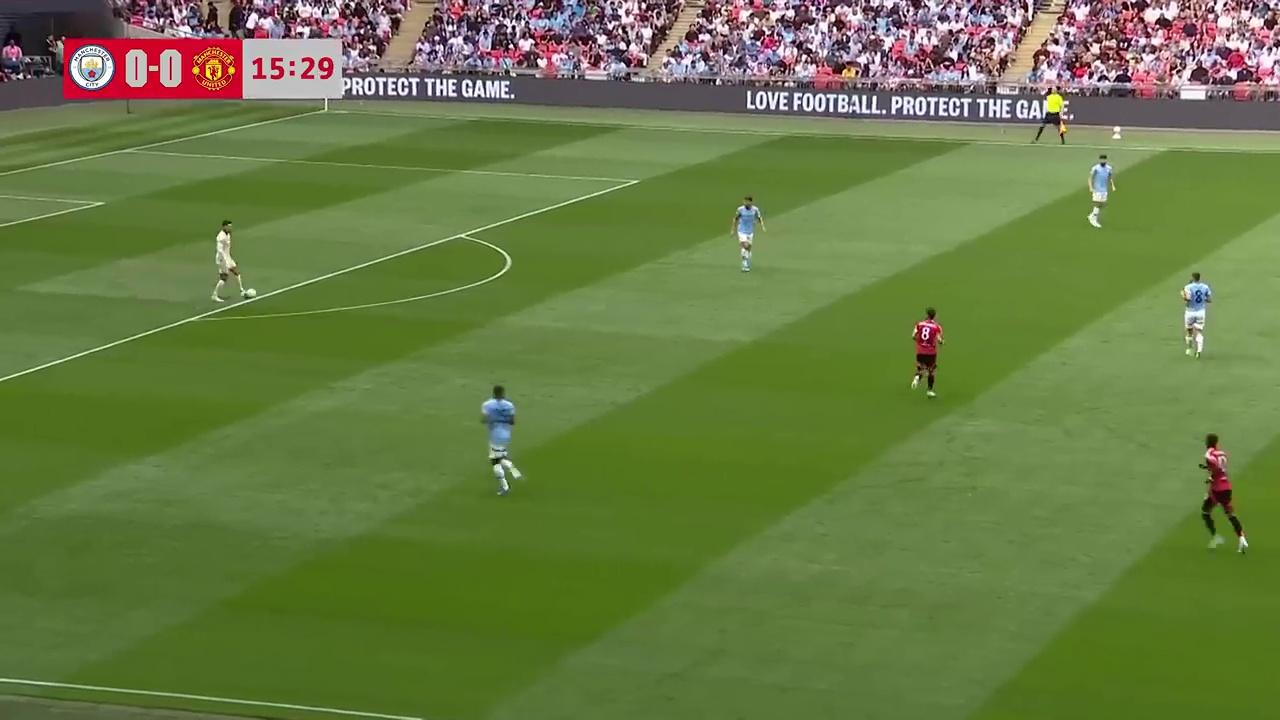ball: (246, 287, 258, 299)
player: (1198, 434, 1249, 552), (480, 383, 523, 496), (211, 219, 249, 302), (910, 308, 944, 397), (1180, 271, 1211, 358), (731, 196, 763, 272), (1087, 160, 1111, 228), (1090, 154, 1114, 205)
referee: (1035, 85, 1068, 145)
